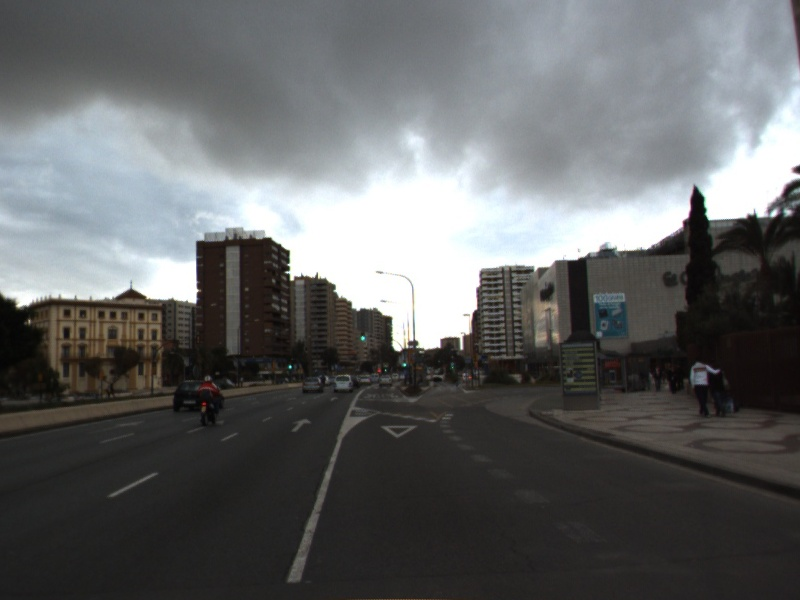STRAIGHT: (288, 416, 315, 434)
